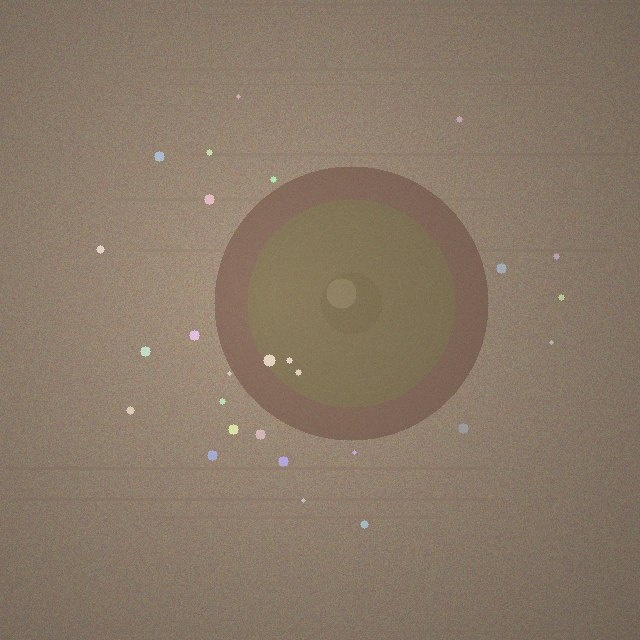overburn: (214, 166, 488, 440)
